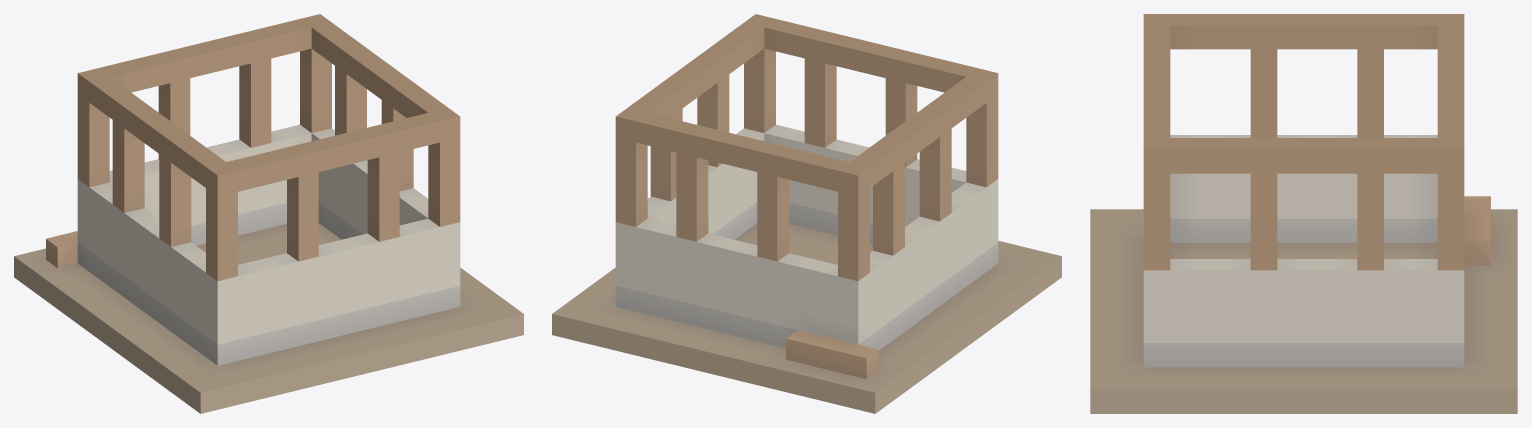
The model's file is life_stage.v1.glb.
The picture shows the model from 3 angles, left to right: view 1: azimuth 30°, elevation 25°; view 2: azimuth 150°, elevation 25°; view 3: azimuth 270°, elevation 25°; orthographic projection. The views are drawn at different scales.
Parts seen in each view (by area): view 1: life_stage; view 2: life_stage; view 3: life_stage.
Part boxes in pixels (x1,y1,x2,y2): life_stage: (14,14,523,413); life_stage: (552,14,1061,413); life_stage: (1090,14,1517,413).
Size of the model in its own units: 2 by 1.25 by 2.
